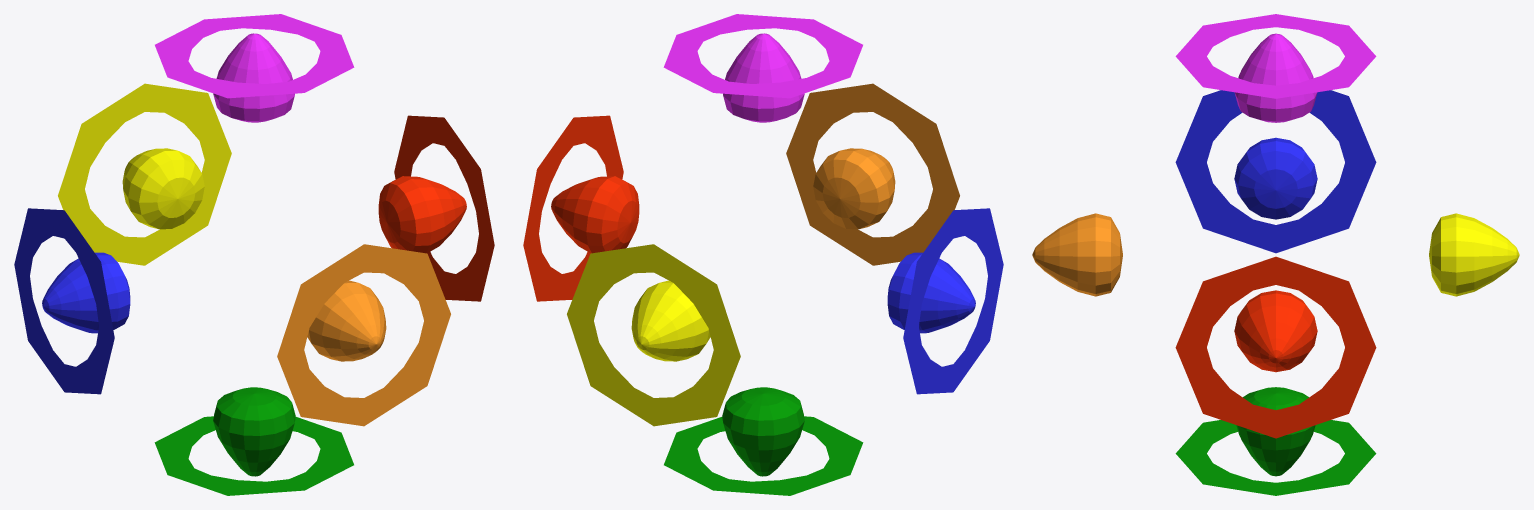
Rendered from indicadoresjuntos.fbx.
The picture shows the model from 3 angles, left to right: view 1: azimuth 30°, elevation 25°; view 2: azimuth 150°, elevation 25°; view 3: azimuth 270°, elevation 25°; orthographic projection.
Visible parts, largest first — view 1: Cube; view 2: Cube; view 3: Cube.
Part boxes in pixels (x1=…): Cube: x1=14, y1=14, x2=494, y2=495; Cube: x1=523, y1=14, x2=1003, y2=495; Cube: x1=1032, y1=14, x2=1519, y2=495.
Size of the model in its own units: 492 by 492 by 492.
